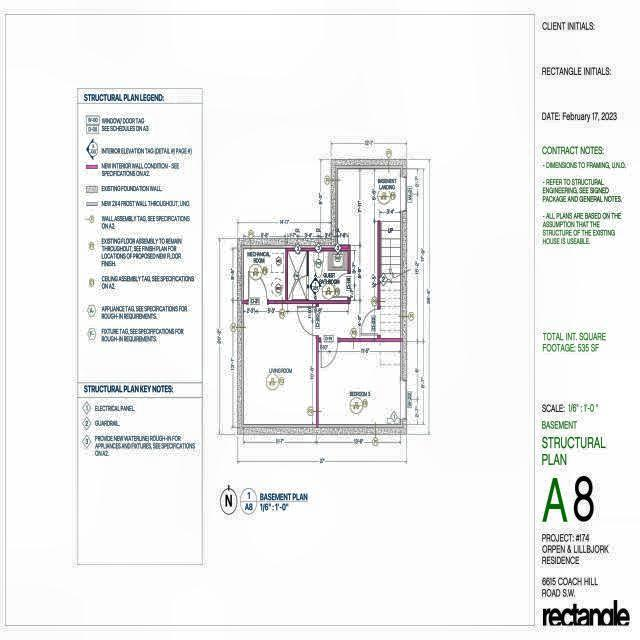room: (244, 304, 316, 424), (318, 342, 401, 424), (244, 249, 285, 300), (309, 251, 348, 300), (288, 251, 307, 300)
